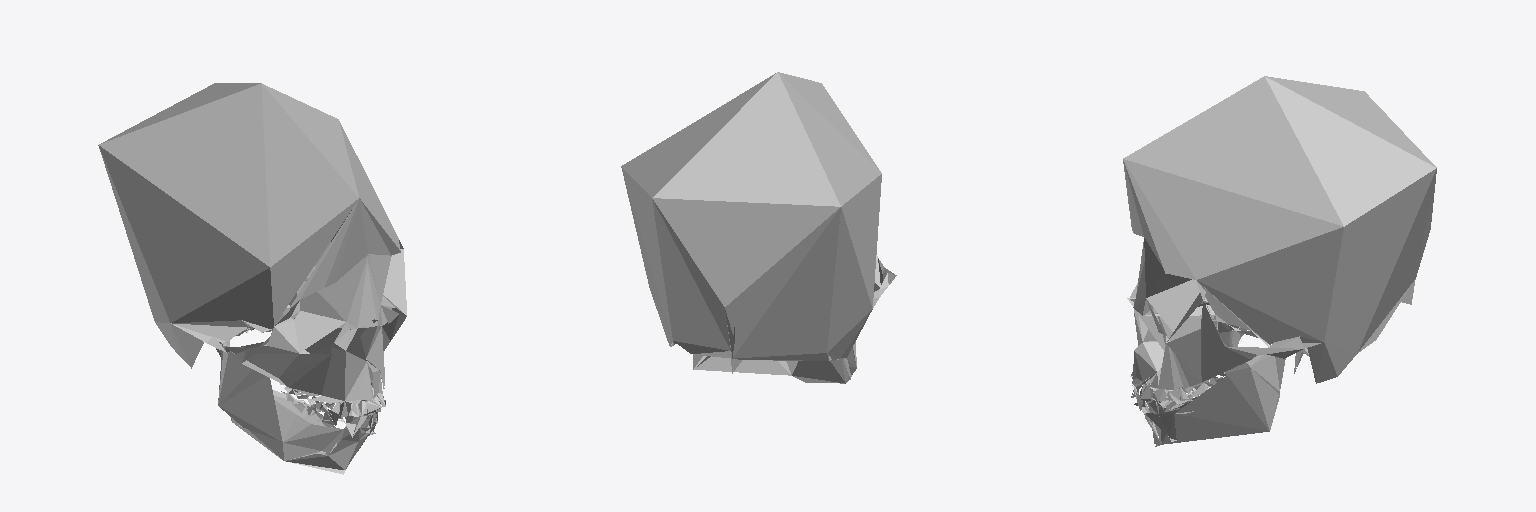
Rendered from potato.obj.
The picture shows the model from 3 angles: view 1: azimuth 30°, elevation 25°; view 2: azimuth 150°, elevation 25°; view 3: azimuth 270°, elevation 25°; orthographic projection.
Parts seen in each view (by area): view 1: skull; view 2: skull; view 3: skull.
Part boxes in pixels (left/top/right/bottom): skull: left=98, top=83, right=406, bottom=474; skull: left=621, top=72, right=896, bottom=383; skull: left=1123, top=76, right=1436, bottom=446.
Bounding box in the file's own units: 5.16 × 7.64 × 6.08.